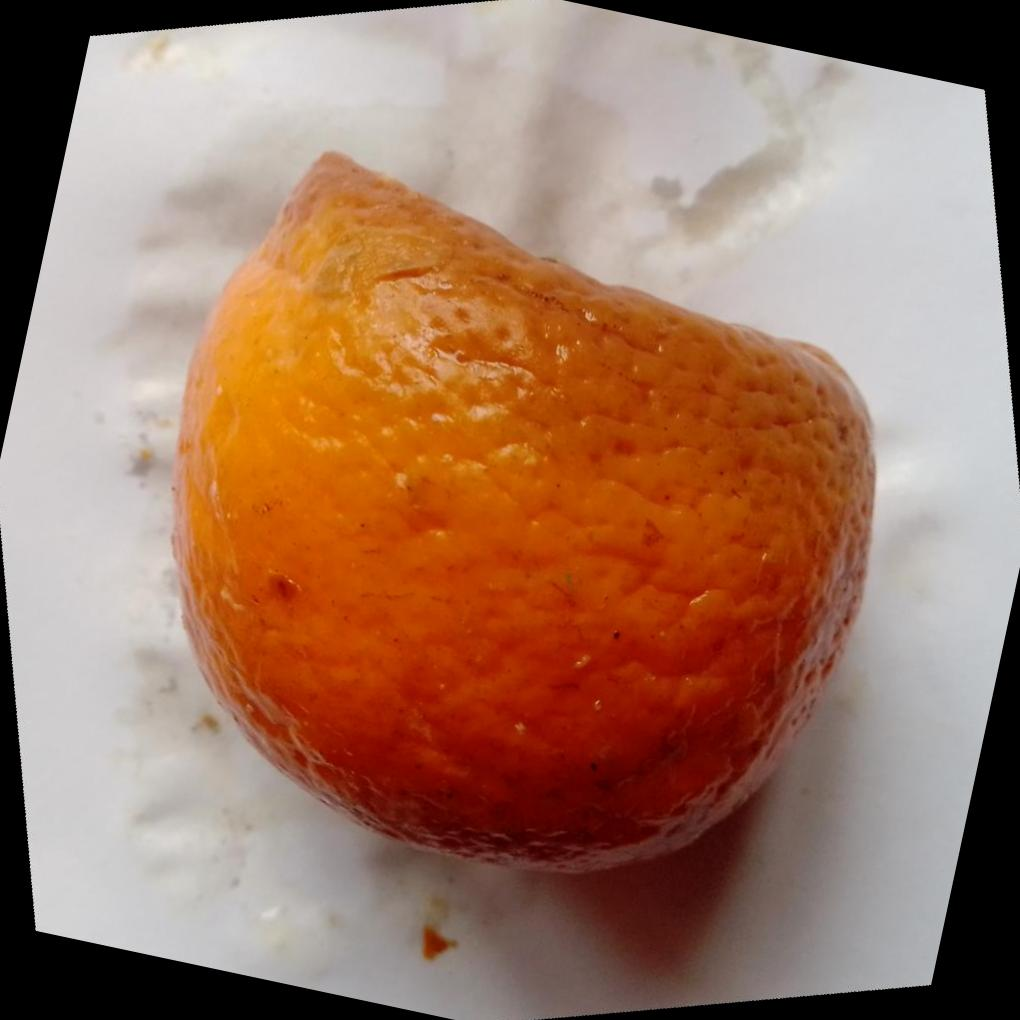FreshOrange: (169, 151, 877, 877)
